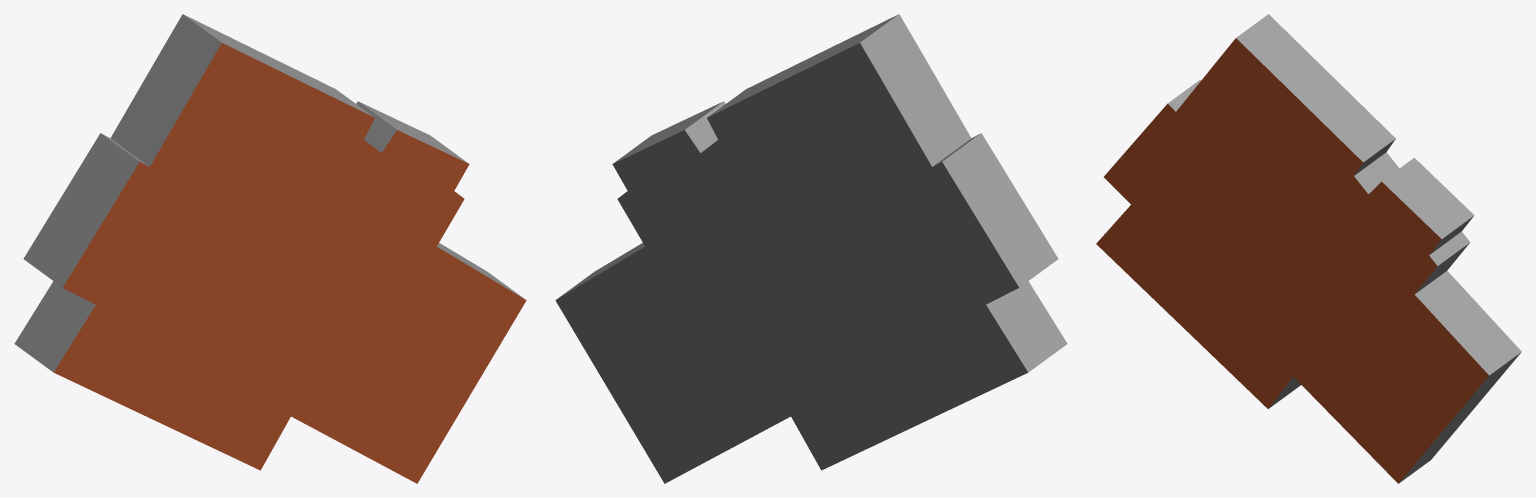
File: construction_6671_assumed_A_Cruz_vermelha_portuguesa_h6m.obj
3 renders of one model, left to right at view 1: azimuth 30°, elevation 25°; view 2: azimuth 150°, elevation 25°; view 3: azimuth 330°, elevation 25°, orthographic. The views are drawn at different scales.
Parts seen in each view (by area): view 1: construction_6671_assumed_A_Cruz_vermelha_portuguesa; view 2: construction_6671_assumed_A_Cruz_vermelha_portuguesa; view 3: construction_6671_assumed_A_Cruz_vermelha_portuguesa.
Boxes of the visible parts, x1,y1,x2,y2 form: construction_6671_assumed_A_Cruz_vermelha_portuguesa: [14, 14, 526, 483]; construction_6671_assumed_A_Cruz_vermelha_portuguesa: [555, 14, 1067, 483]; construction_6671_assumed_A_Cruz_vermelha_portuguesa: [1096, 14, 1521, 483].
Size of the model in its own units: 41.67 by 41.16 by 6.
